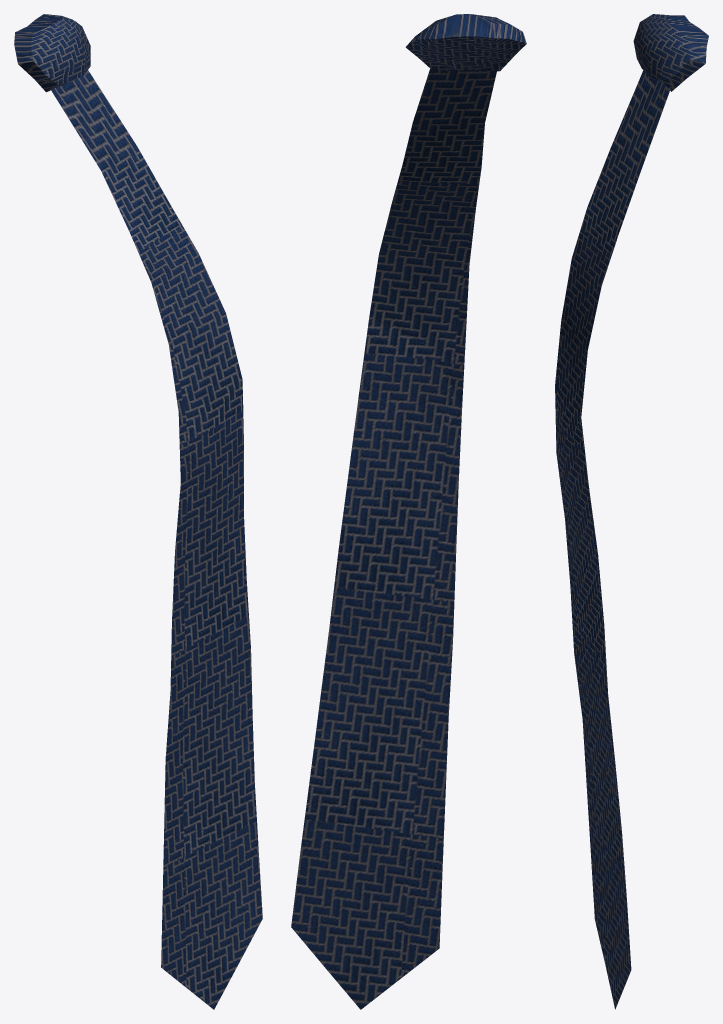
The model's file is Pose-4_Tie-3.fbx.
3 renders of one model, left to right at view 1: azimuth 30°, elevation 25°; view 2: azimuth 150°, elevation 25°; view 3: azimuth 270°, elevation 25°, orthographic. The views are drawn at different scales.
Visible parts, largest first — view 1: Pose-4_Tie-3; view 2: Pose-4_Tie-3; view 3: Pose-4_Tie-3.
Boxes of the visible parts, bbox=[...] form: Pose-4_Tie-3: bbox=[14, 14, 262, 1009]; Pose-4_Tie-3: bbox=[291, 14, 526, 1009]; Pose-4_Tie-3: bbox=[555, 14, 708, 1009].
Bounding box in the file's own units: 13.02 × 53.01 × 7.96.
